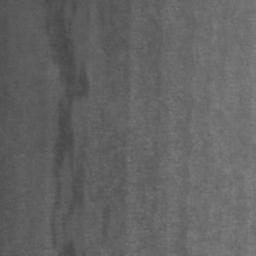Inclusion: (45, 0, 91, 172)
